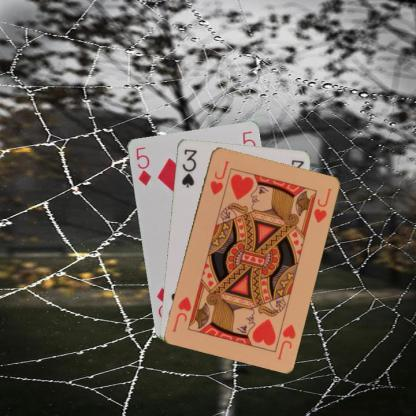3s: (179, 146, 198, 188)
5d: (133, 144, 152, 186)
Jh: (274, 321, 297, 361), (207, 158, 230, 196)
